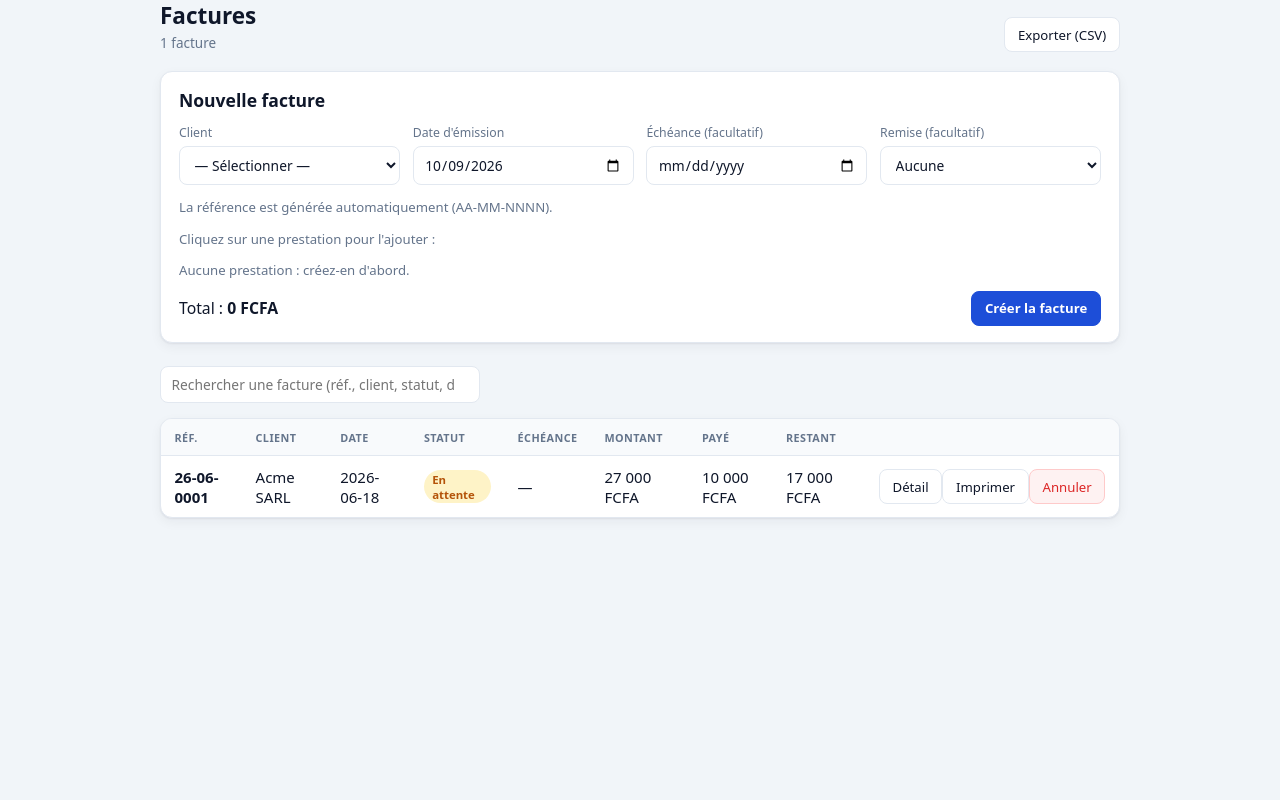
Test: NotesPage — reçus › renvoie vers le reçu existant au lieu d'en générer un second
Click the button "Détail": (911, 487) left=879, top=469, right=942, bottom=504
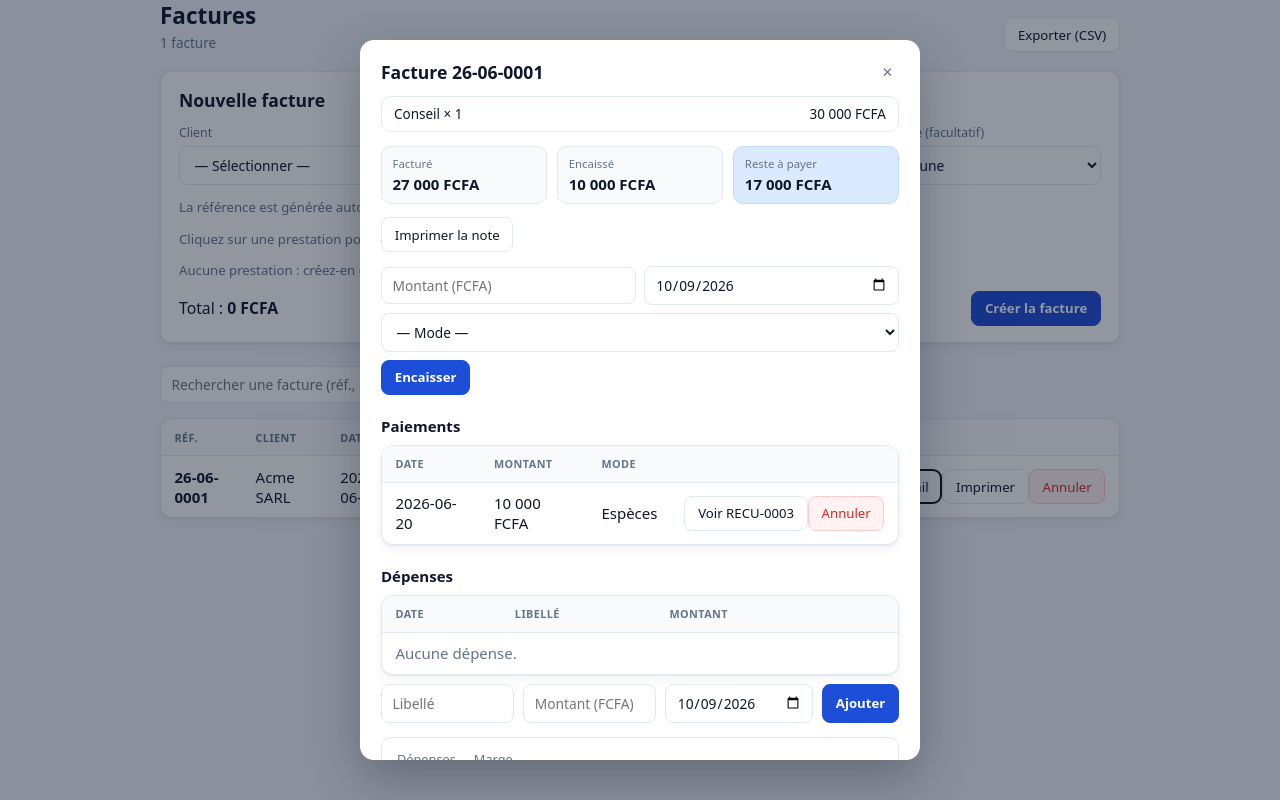
Check: the button "Voir RECU-0003" is shown, box left=684, top=496, right=808, bottom=530
